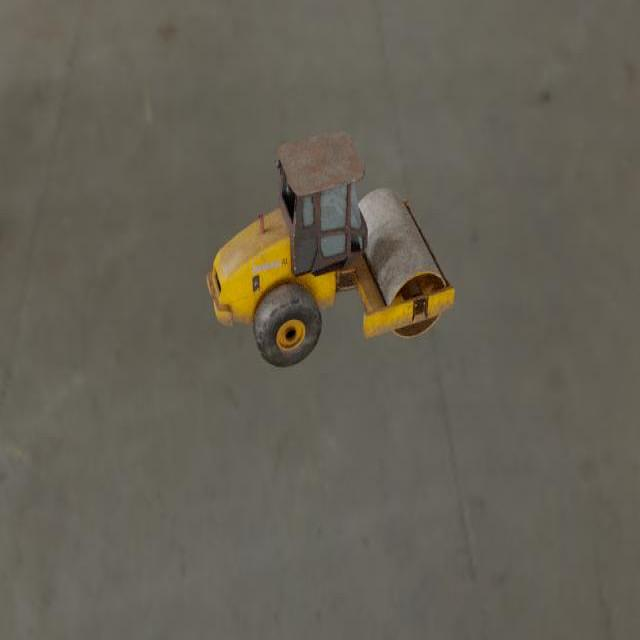Roller: (206, 129, 455, 368)
